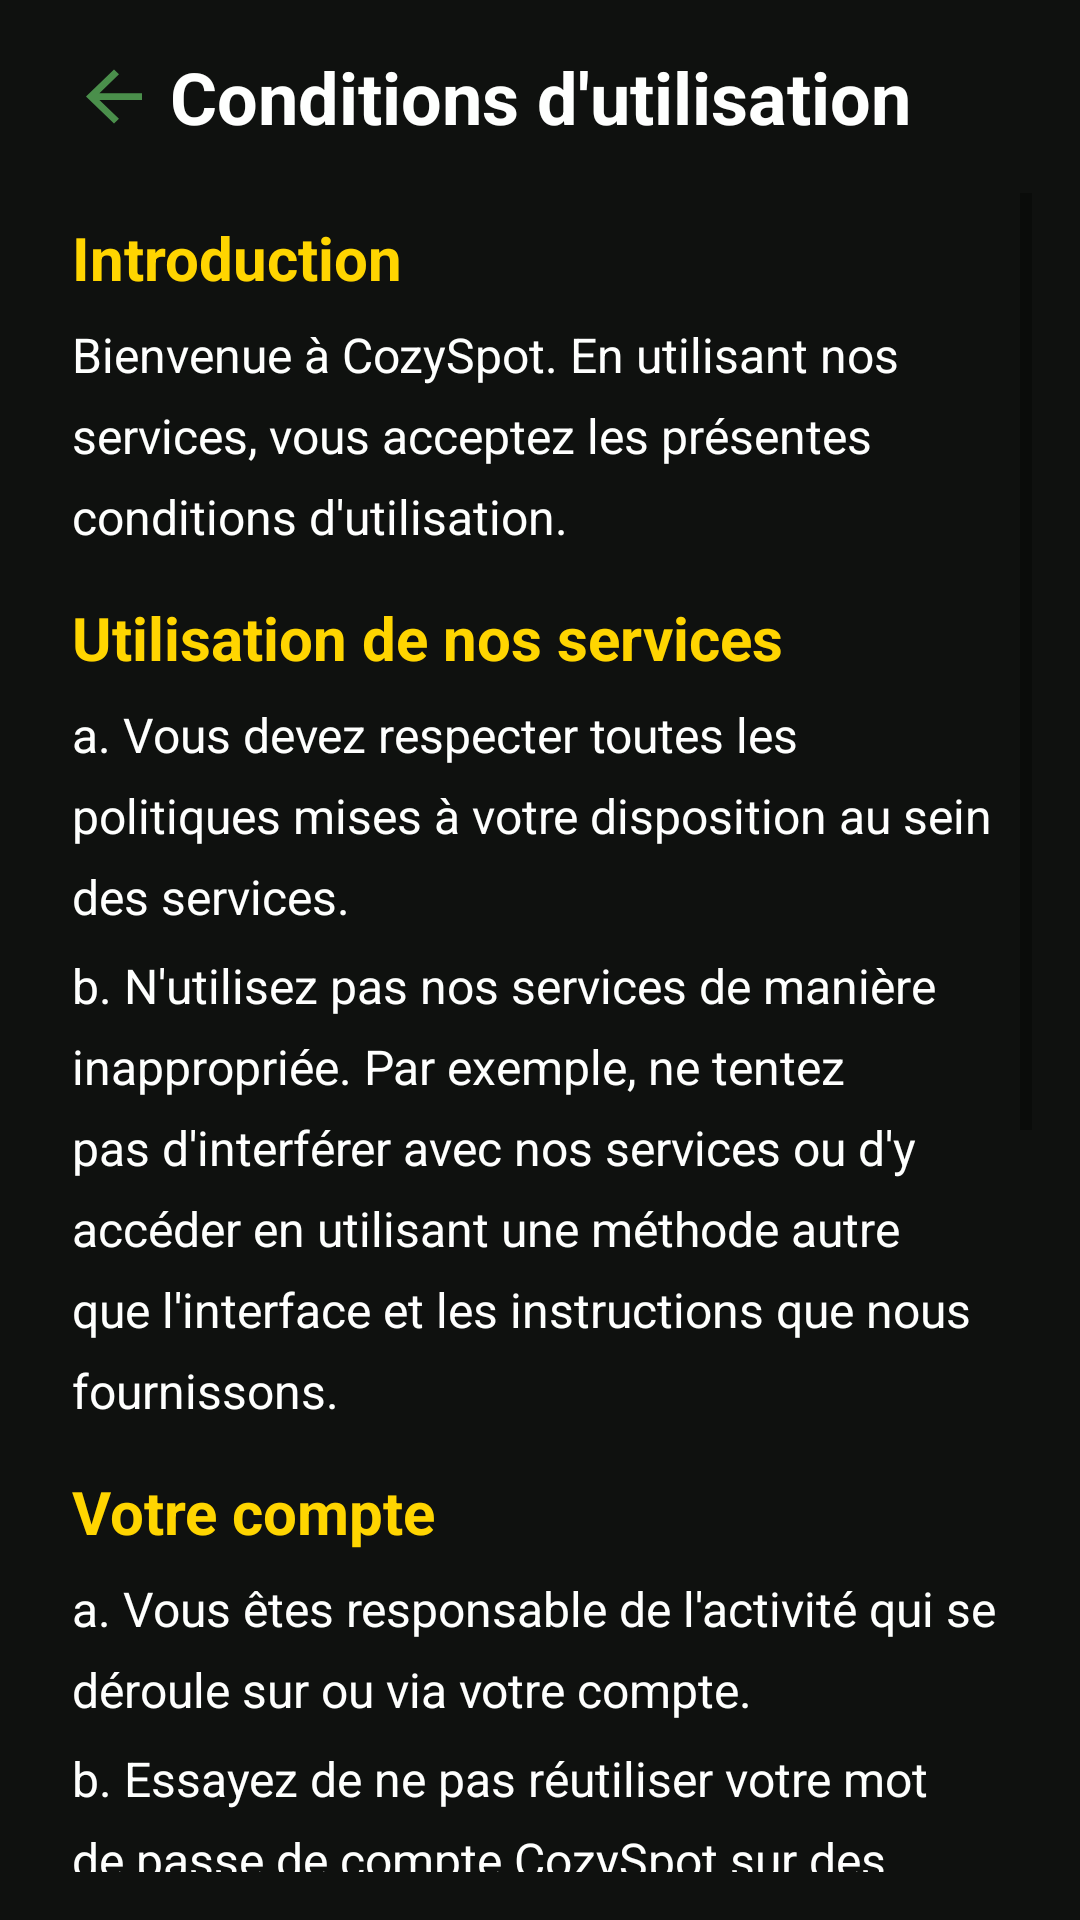

Where icons sit on this 1080*1920 app screen, as (x1, y1, x2, y2):
arrow back: (86, 70, 142, 123)
